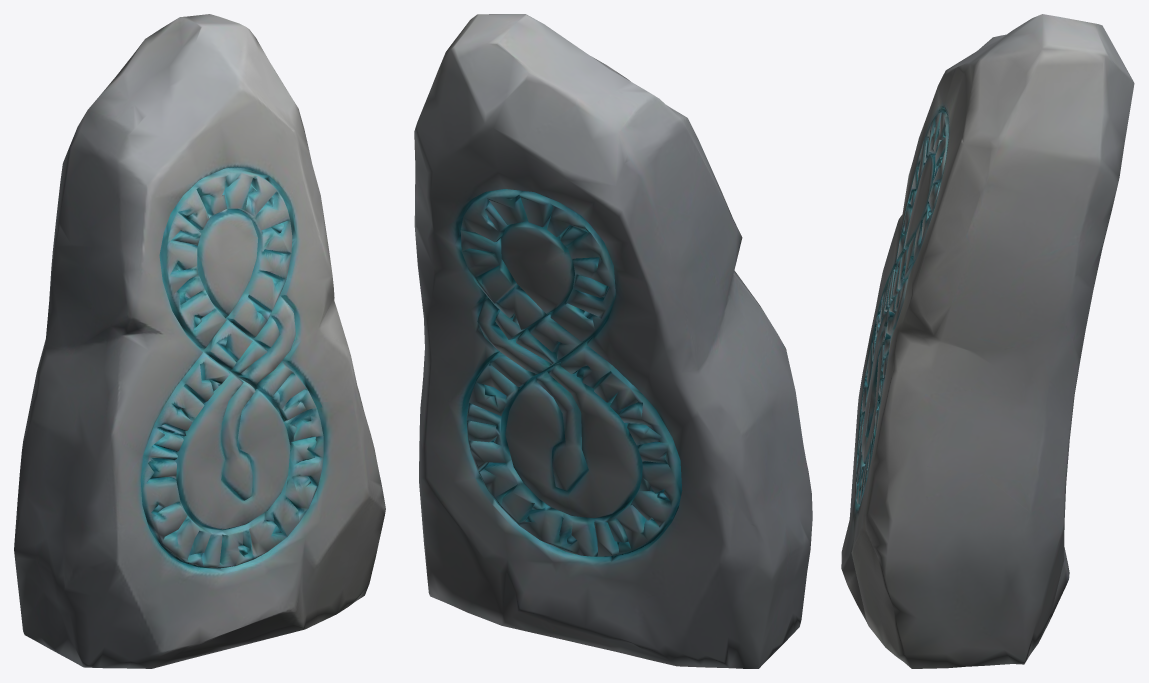
File: rune-stone.glb
The picture shows the model from 3 angles, left to right: view 1: azimuth 30°, elevation 25°; view 2: azimuth 150°, elevation 25°; view 3: azimuth 270°, elevation 25°; orthographic projection. The views are drawn at different scales.
Parts seen in each view (by area): view 1: tripo_node_acbd168f-ce49-4b64-97dd-7595c0d71ed6; view 2: tripo_node_acbd168f-ce49-4b64-97dd-7595c0d71ed6; view 3: tripo_node_acbd168f-ce49-4b64-97dd-7595c0d71ed6.
Part boxes in pixels (x1=…): tripo_node_acbd168f-ce49-4b64-97dd-7595c0d71ed6: x1=14, y1=14, x2=385, y2=668; tripo_node_acbd168f-ce49-4b64-97dd-7595c0d71ed6: x1=414, y1=14, x2=812, y2=668; tripo_node_acbd168f-ce49-4b64-97dd-7595c0d71ed6: x1=841, y1=14, x2=1134, y2=668.
Size of the model in its own units: 0.6008 by 1 by 0.4422.
1 material, 1 textured.
